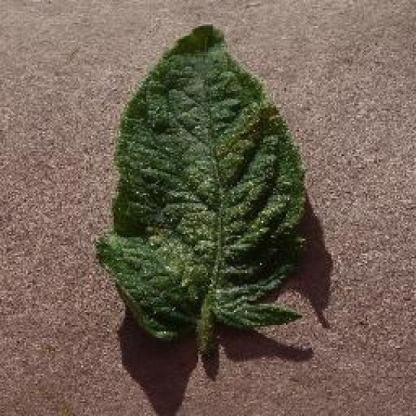Tomato_Spider_Mites: (98, 24, 307, 336)
